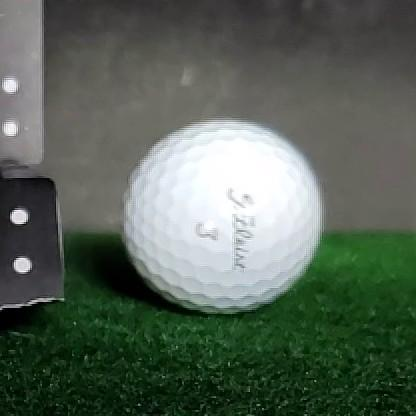golfball: (121, 120, 323, 314)
